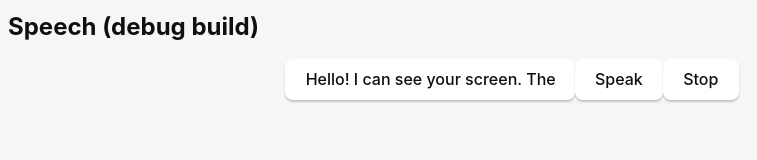
Scenario: SpeechDebugPanel utterance ids › ignores late events of an earlier utterance
Later steps or results of the test are not shown.
expect the field named "Text to speak" is shown: met, box [285,59,575,100]
Click the button "Speak": (619, 79) [575,59,663,100]
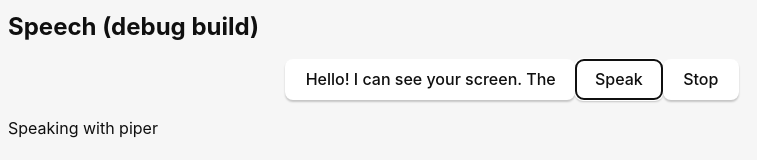
Click the button "Speak": (619, 79) [575,59,663,100]
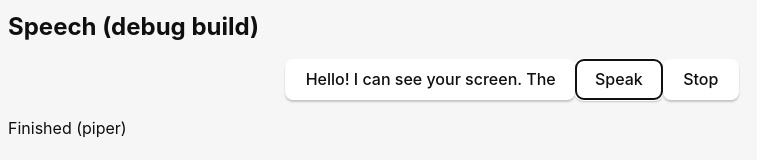
expect the message reads "Finished (piper)": met, box [8,118,127,138]
